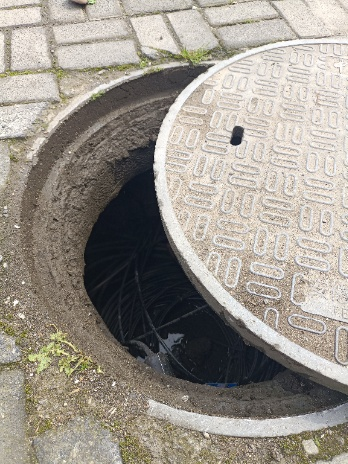uncovered: (19, 45, 348, 436)
